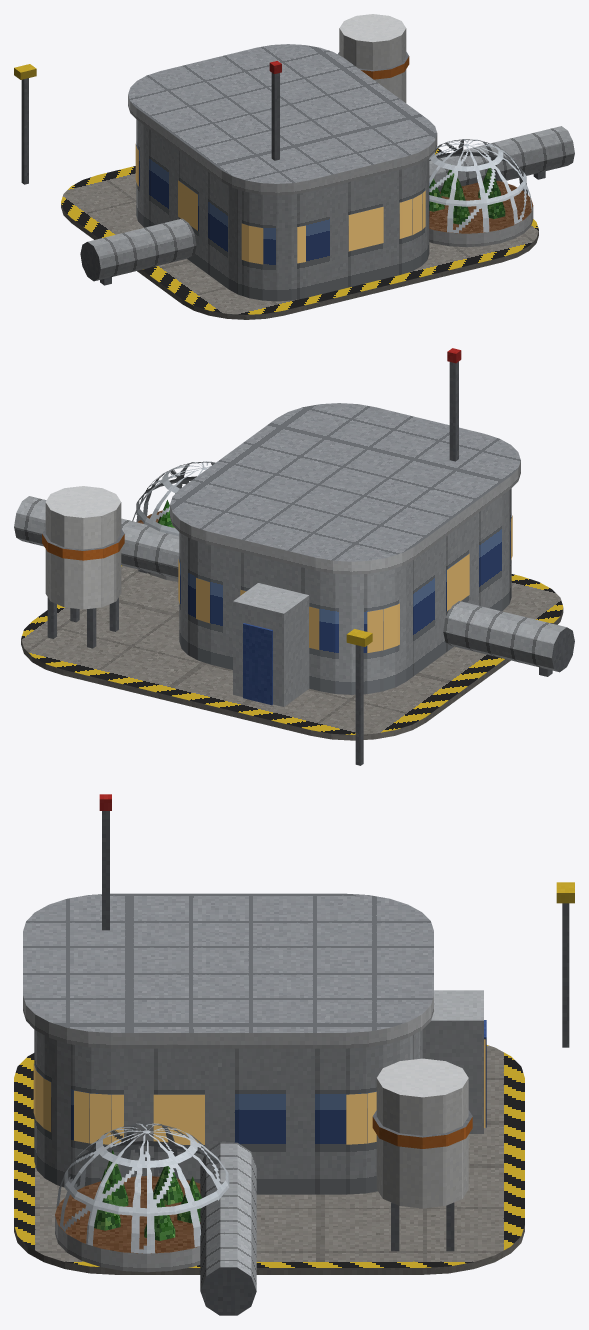
File: mars_0_inhab_bydleni_b.glb
3 renders of one model, top to bottom at view 1: azimuth 30°, elevation 25°; view 2: azimuth 150°, elevation 25°; view 3: azimuth 270°, elevation 25°, orthographic. The views are drawn at different scales.
Parts seen in each view (by area): view 1: inhab_bydleni_b, noc; view 2: inhab_bydleni_b, noc; view 3: inhab_bydleni_b, noc.
Boxes of the visible parts, x1,y1,x2,y2 form: inhab_bydleni_b: (14,14,574,319); noc: (135,144,425,264); inhab_bydleni_b: (14,348,574,765); noc: (178,515,512,652); inhab_bydleni_b: (14,794,574,1315); noc: (33,1039,485,1144).
Bounding box in the file's own units: 14.76 × 6.59 × 10.98.
1 material, 1 textured.
